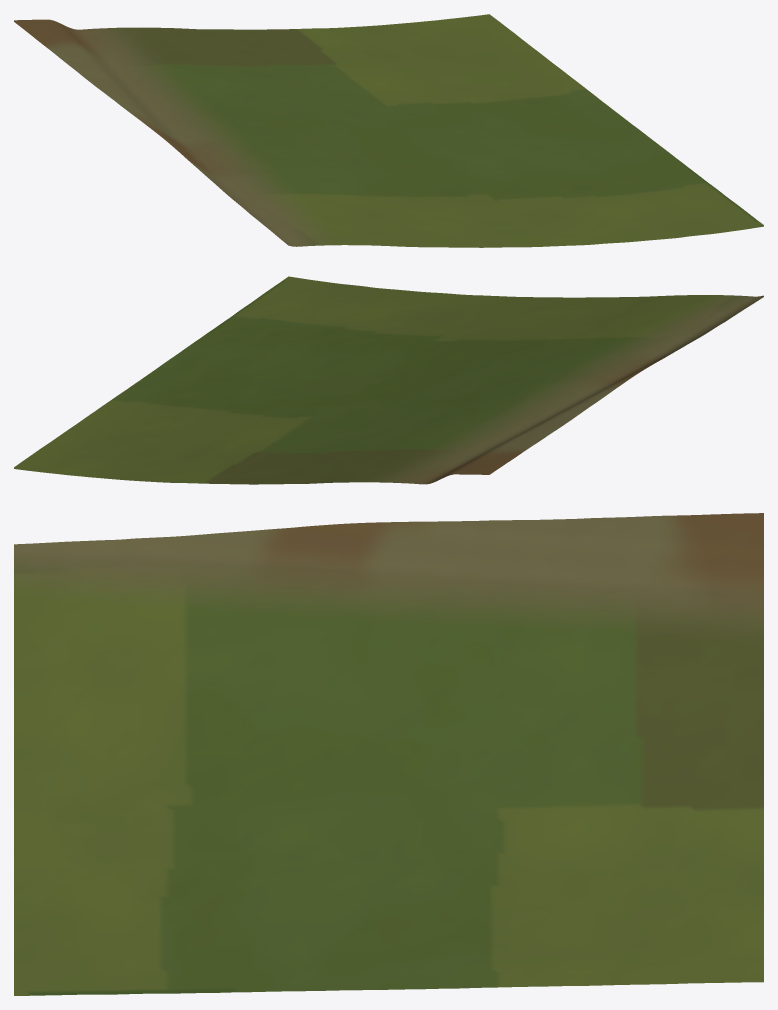
File: land_n_00_02.glb
3 views of the same model, one above another, from view 1: azimuth 30°, elevation 25°; view 2: azimuth 150°, elevation 25°; view 3: azimuth 270°, elevation 25° (orthographic). The views are drawn at different scales.
Parts seen in each view (by area): view 1: land_n_00_02; view 2: land_n_00_02; view 3: land_n_00_02.
Boxes of the visible parts, box(x1,y1,x2,y2) form: land_n_00_02: box(14, 14, 763, 247); land_n_00_02: box(14, 276, 763, 484); land_n_00_02: box(14, 513, 763, 995).
Bounding box in the file's own units: 480 × 117 × 480.
